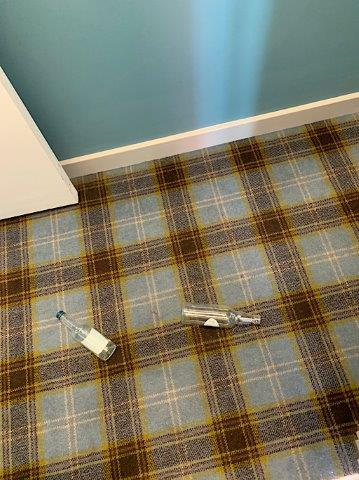botolkaca: (57, 311, 115, 360), (181, 304, 260, 326)
